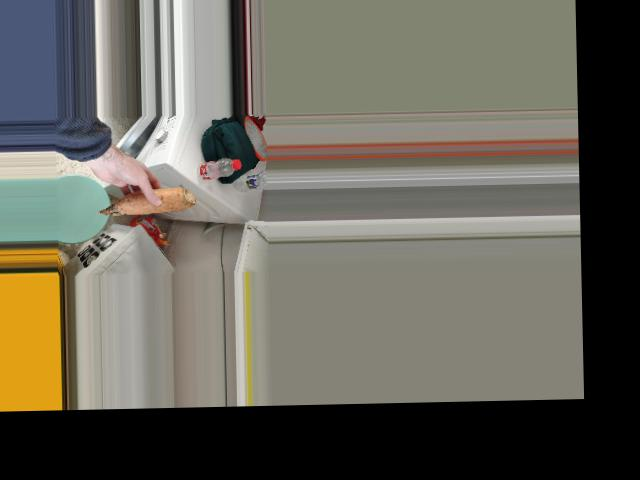sweet_potato: (99, 187, 189, 215)
